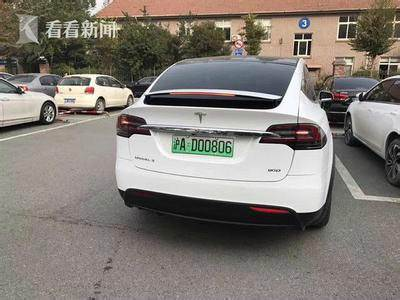plate: (167, 128, 239, 162)
